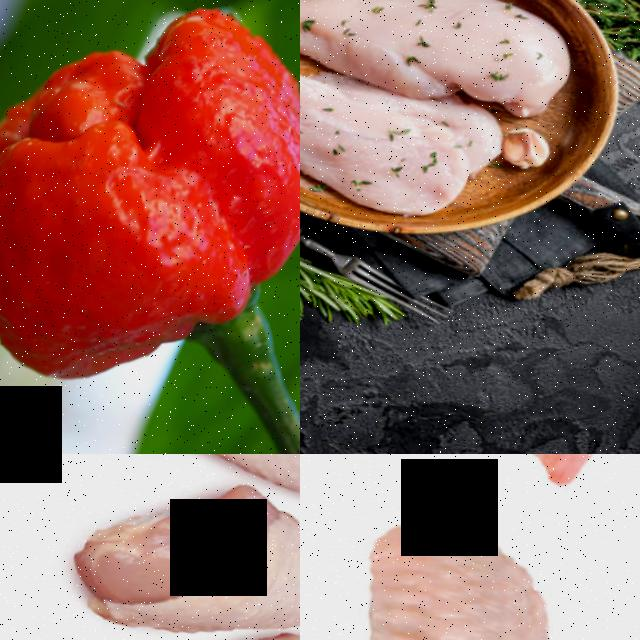chicken breast: (300, 29, 530, 262), (300, 0, 579, 156)
chicken thigh: (59, 454, 300, 640), (60, 454, 300, 571), (6, 571, 300, 640)
chicken wing: (436, 454, 640, 531)
